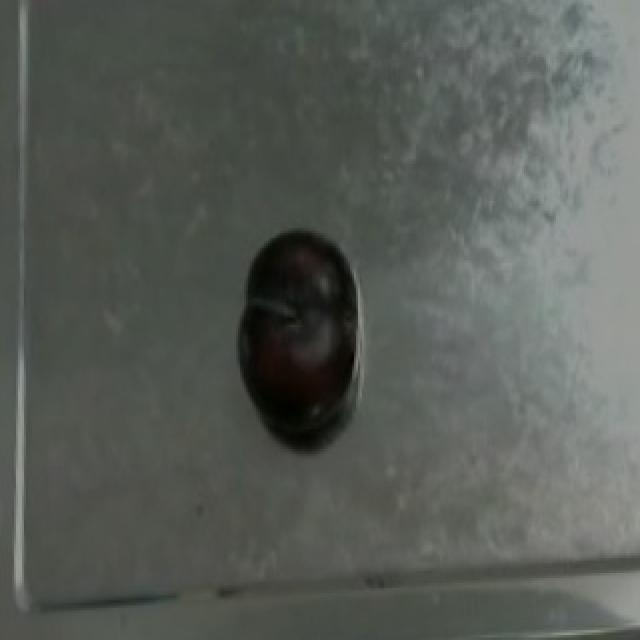Fruit: (236, 300, 360, 437)
